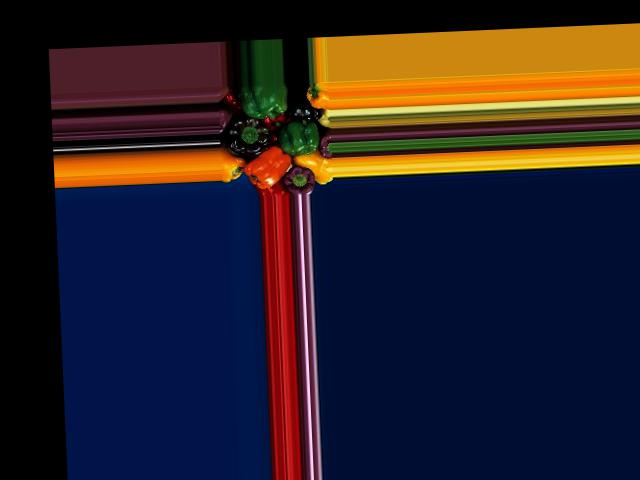bell_pepper: (237, 82, 286, 116)
